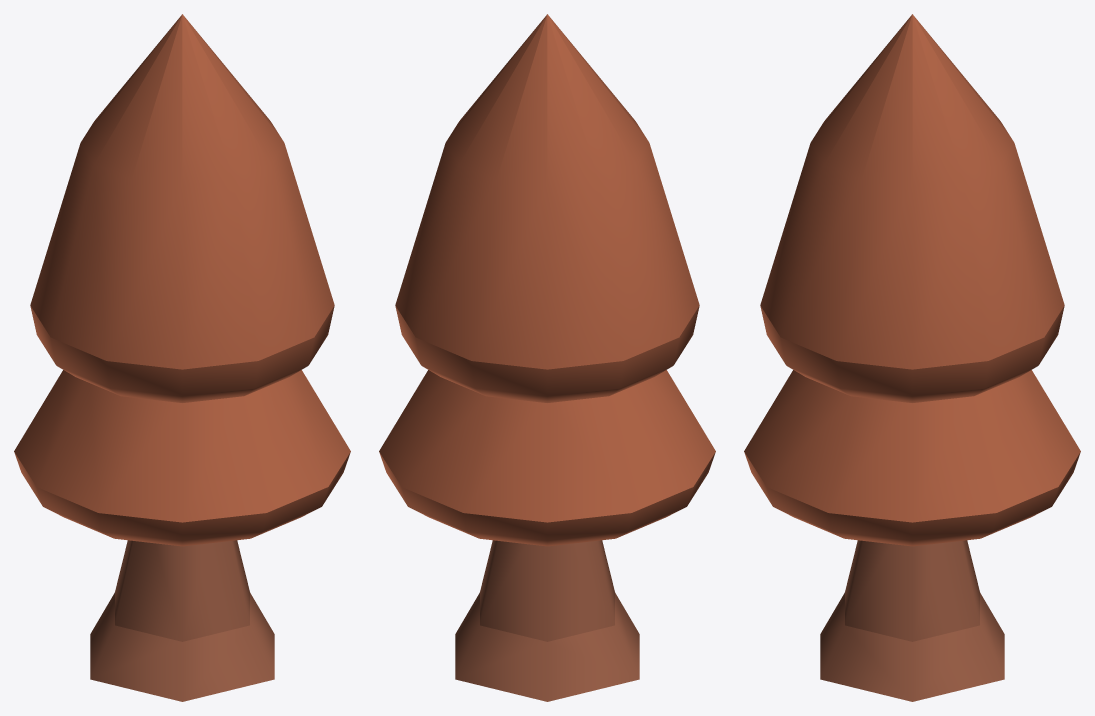
Rendered from tree.fbx.
The picture shows the model from 3 angles, left to right: view 1: azimuth 30°, elevation 25°; view 2: azimuth 150°, elevation 25°; view 3: azimuth 270°, elevation 25°; orthographic projection.
Parts seen in each view (by area): view 1: tree-pine; view 2: tree-pine; view 3: tree-pine.
Part boxes in pixels (box(x1,y1,x2,y2)): tree-pine: box(14, 14, 350, 701); tree-pine: box(379, 14, 715, 701); tree-pine: box(744, 14, 1080, 701).
Size of the model in its own units: 94.85 by 200 by 94.85.
